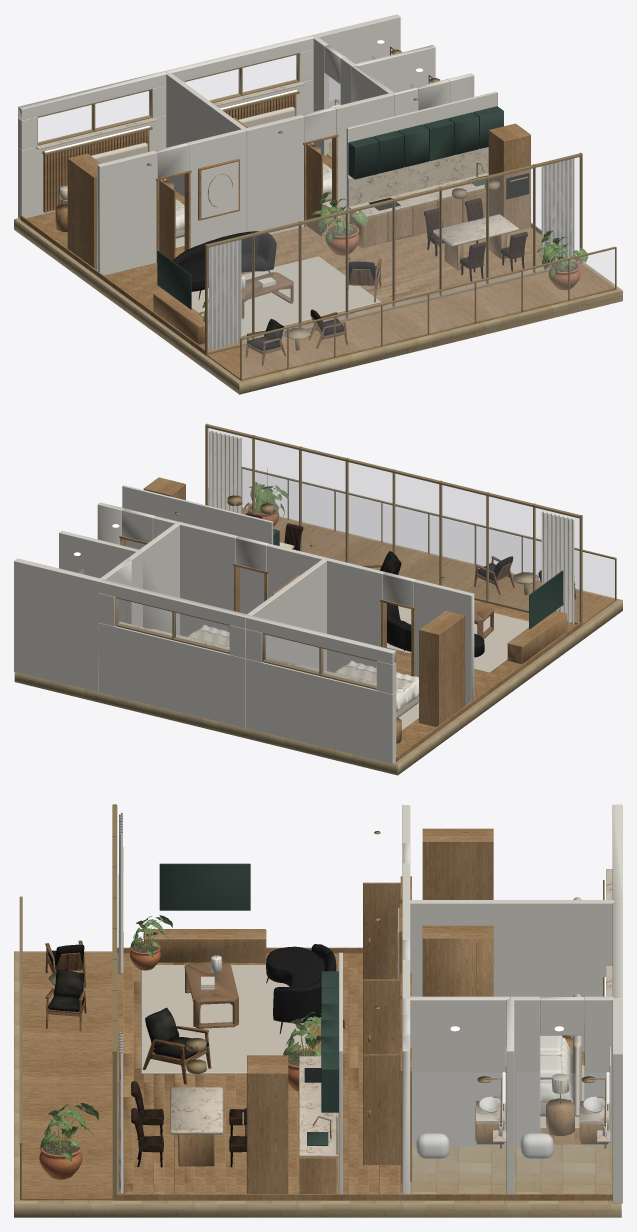
The model's file is A0302-light.glb.
3 views of the same model, one above another, from view 1: azimuth 30°, elevation 25°; view 2: azimuth 150°, elevation 25°; view 3: azimuth 270°, elevation 25° (orthographic). The views are drawn at different scales.
Visible parts, largest first — view 1: A0302 / material batches, potted_plant_02_leaves.001, potted_plant_02_leaves.003, potted_plant_02_pot.001; view 2: A0302 / material batches, potted_plant_02_leaves.003; view 3: A0302 / material batches, potted_plant_02_leaves.003, potted_plant_02_leaves.001, potted_plant_02_pot.003, potted_plant_02_leaves.002.
Boxes of the visible parts, x1=… form: A0302 / material batches: x1=14, y1=14, x2=622, y2=394; potted_plant_02_leaves.001: x1=312, y1=192, x2=367, y2=244; potted_plant_02_leaves.003: x1=536, y1=230, x2=588, y2=280; potted_plant_02_pot.001: x1=325, y1=223, x2=359, y2=255; A0302 / material batches: x1=14, y1=423, x2=622, y2=775; potted_plant_02_leaves.003: x1=244, y1=481, x2=288, y2=516; A0302 / material batches: x1=14, y1=804, x2=622, y2=1217; potted_plant_02_leaves.003: x1=40, y1=1103, x2=98, y2=1161; potted_plant_02_leaves.001: x1=283, y1=1012, x2=345, y2=1061; potted_plant_02_pot.003: x1=39, y1=1138, x2=82, y2=1179; potted_plant_02_leaves.002: x1=130, y1=915, x2=172, y2=957.
Size of the model in its own units: 10.5 by 3.18 by 10.71.
23 materials, 9 textured.
